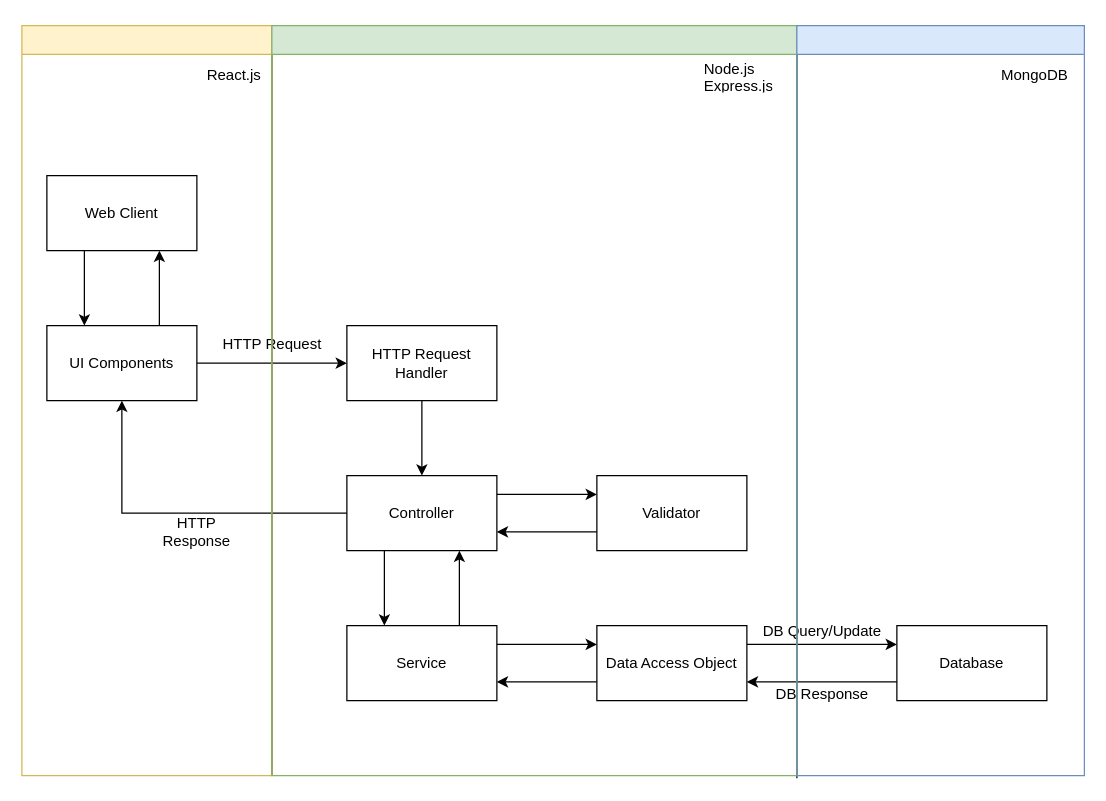
Some shapes in this 1106 by 801 pixel diagram are drawn without their labels. Each missing label, with the box of its shape:
Logic/Business: (271, 24, 797, 776)
Persistence: (796, 24, 1084, 776)
Presentation: (21, 24, 272, 776)
